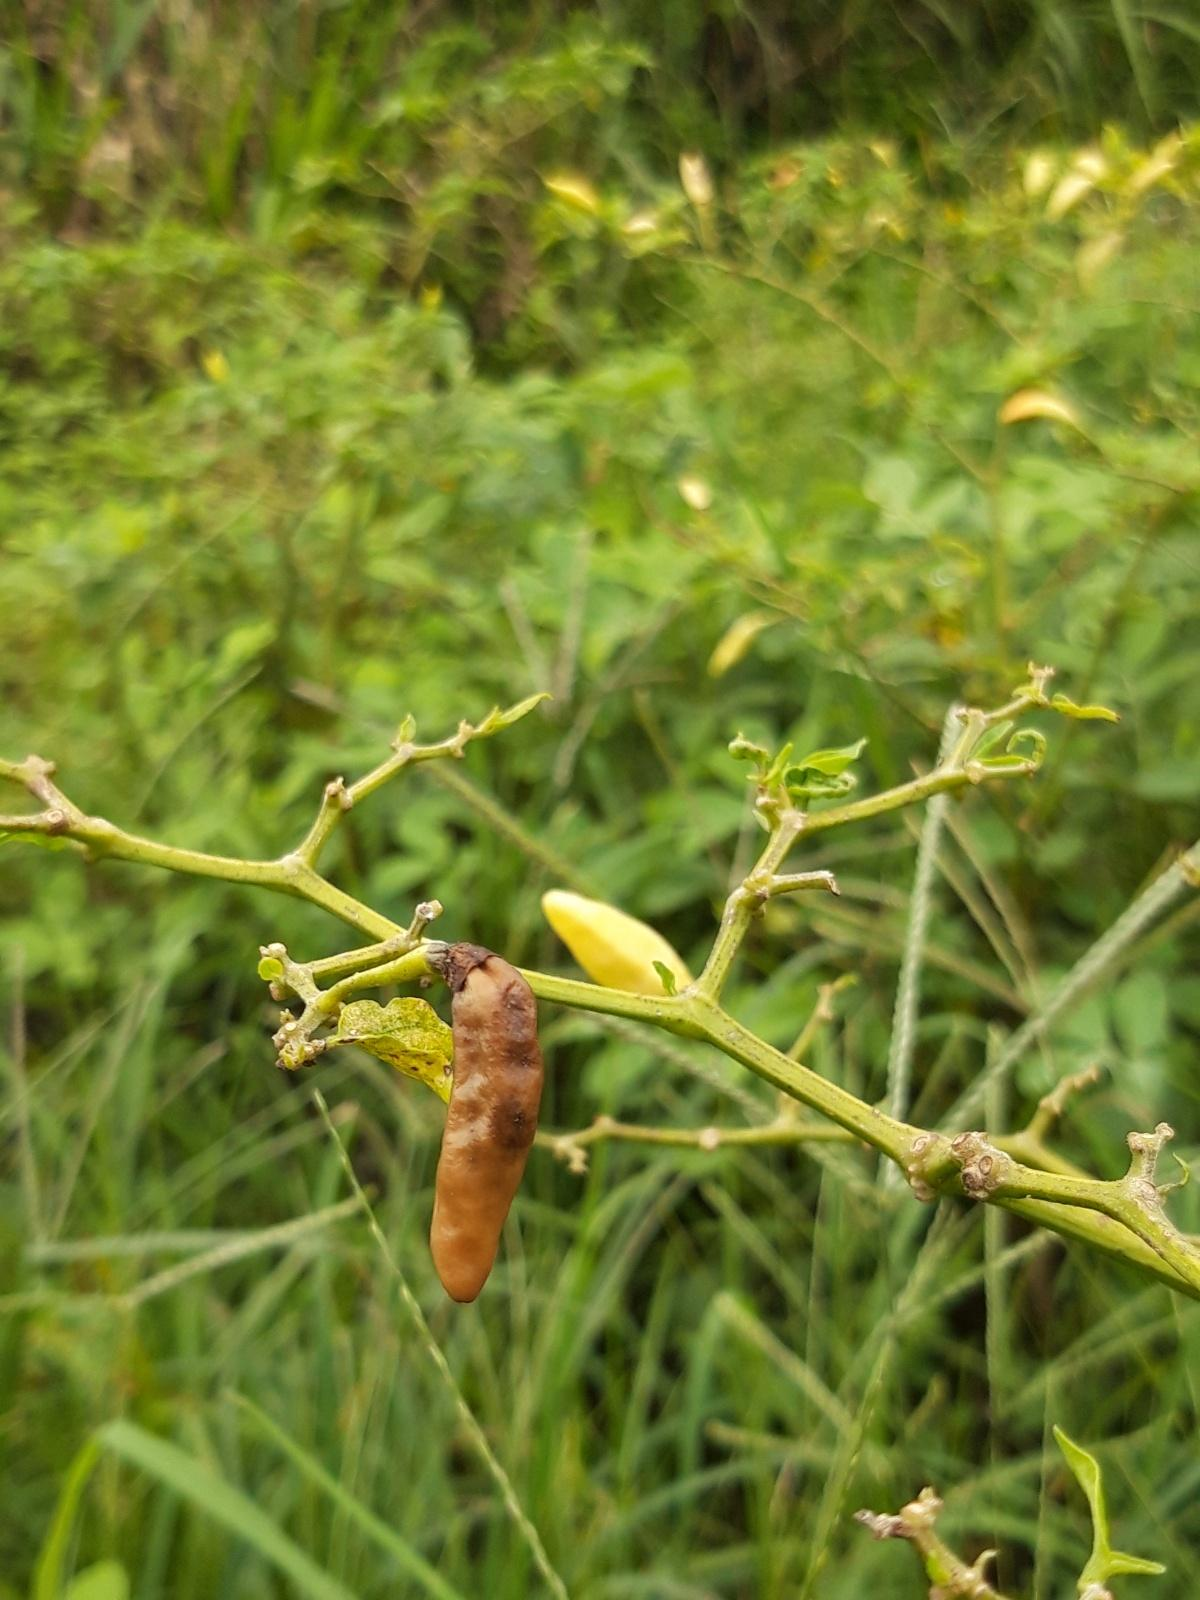cabai_normal: (532, 883, 692, 1005)
lalat_buah: (429, 940, 545, 1301)
